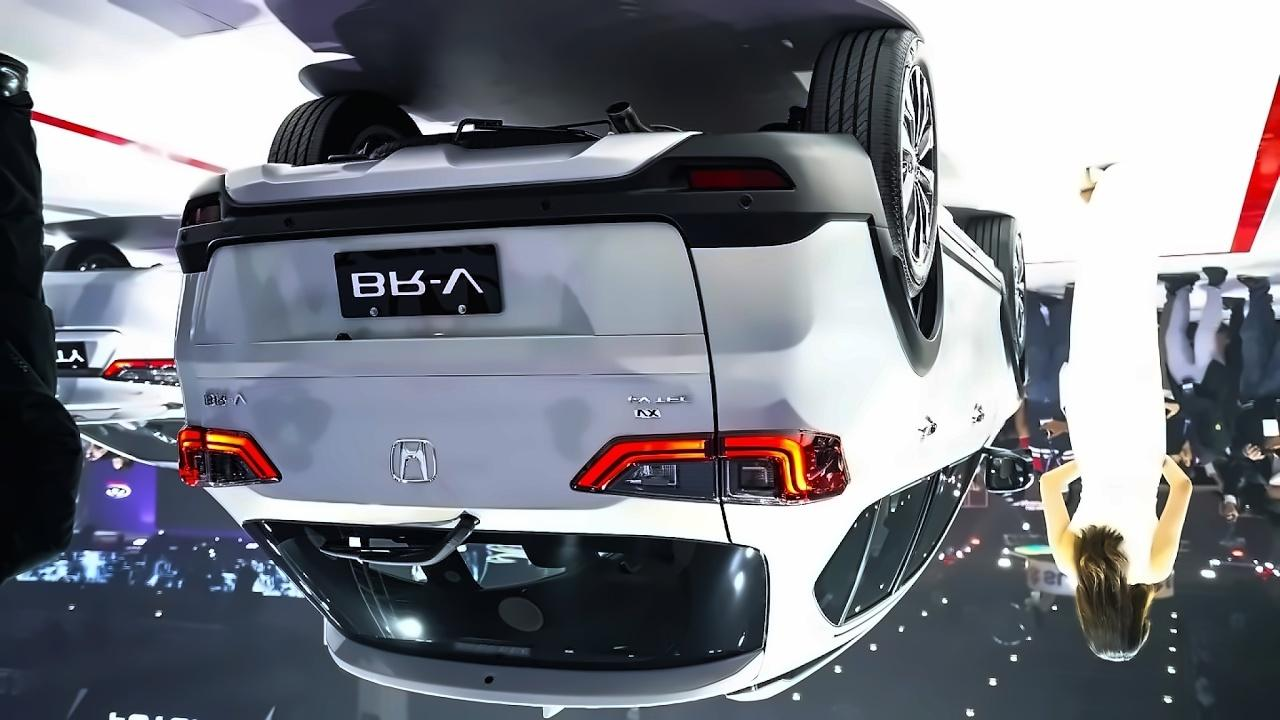Car boot: (192, 214, 773, 681)
Fender - -R-L-: (837, 201, 926, 477)
Passenger-s door - -F-L-: (919, 249, 1016, 616)
Passenger-s door - -R-L-: (857, 224, 965, 621)
Rear bumper: (162, 125, 892, 357)
Rear light - -L-: (562, 422, 866, 515)
Rear light - -R-: (169, 415, 289, 492)
Side mirror - -L-: (924, 204, 1020, 303), (964, 427, 1036, 507)
